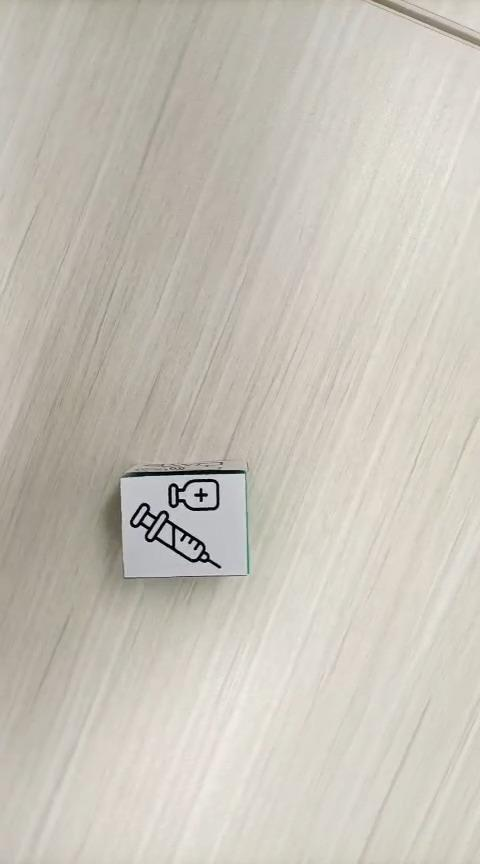antiseptic cream: (123, 475, 249, 576)
